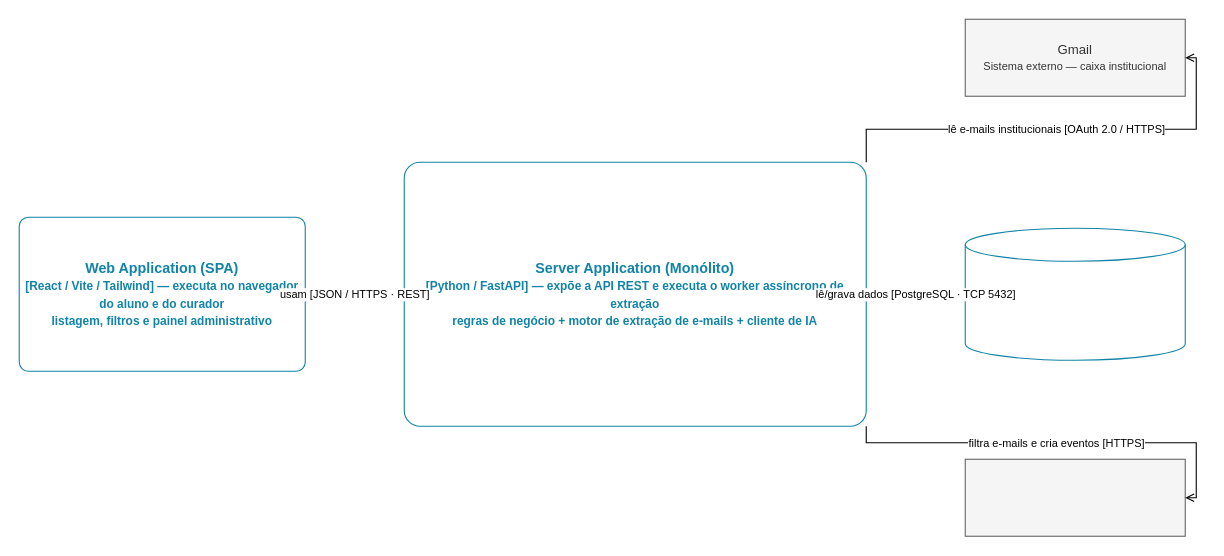
Some shapes in this 1224 by 556 pixel diagram are drawn without their labels. Here are the shapes that lost their labels. From the top down, the centre of each, then its label:
At [1074,293]: "Database [PostgreSQL] — Usuário, Evento, Favorito e LogDeExtração".
At [1074,497]: "Gemini Sistema externo — IA de filtragem".
